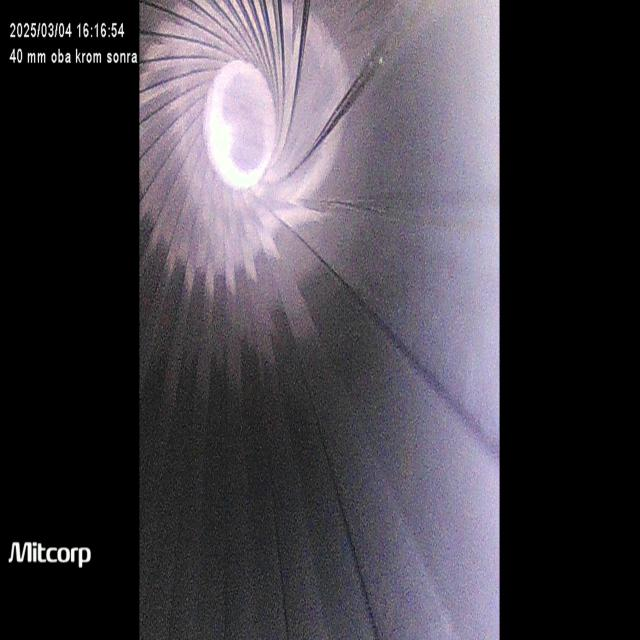hata_8.1: (297, 7, 513, 261)
